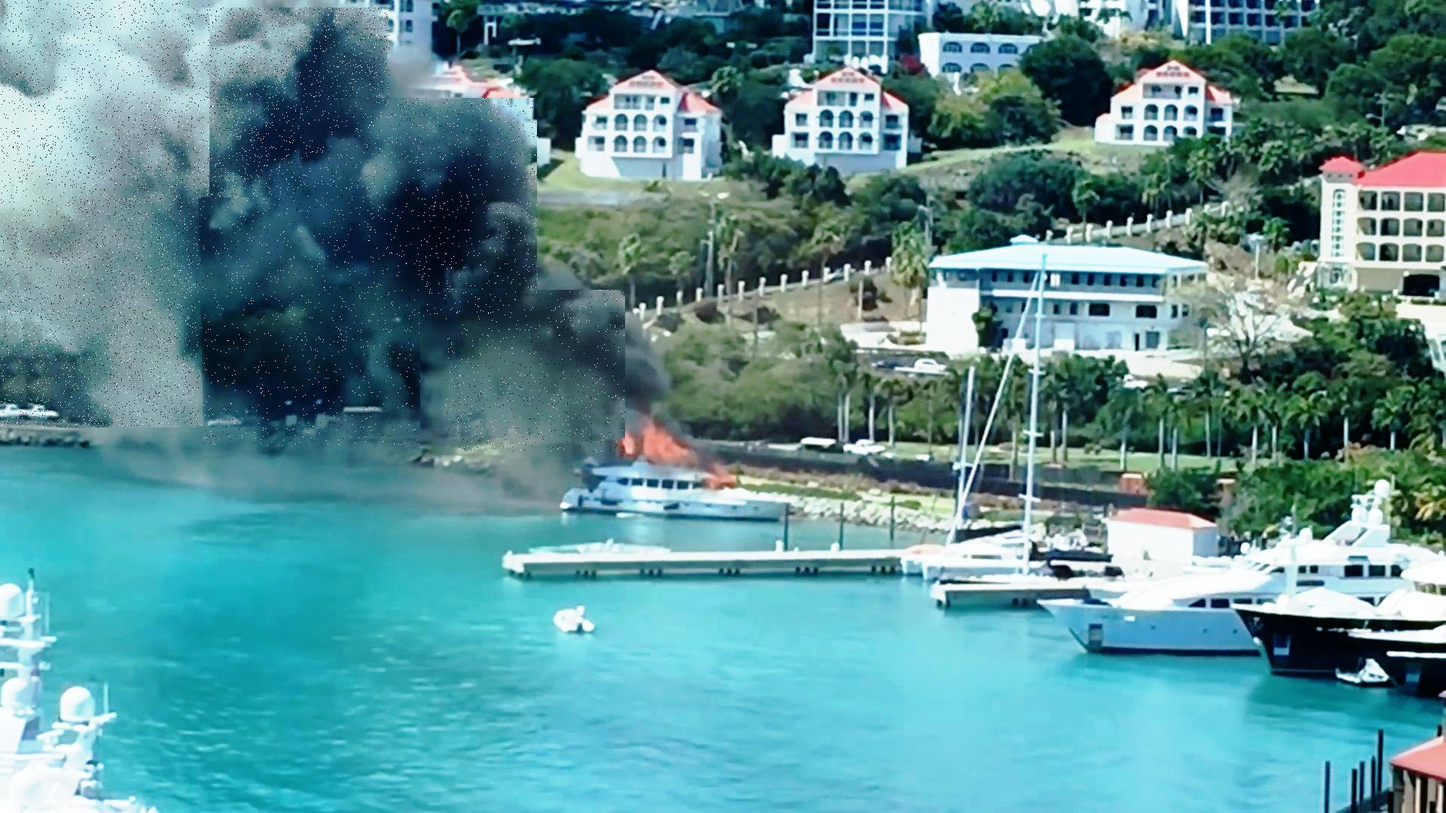smoke: (0, 0, 209, 428), (198, 198, 420, 446), (300, 98, 539, 317), (160, 8, 389, 234), (445, 291, 625, 453)
